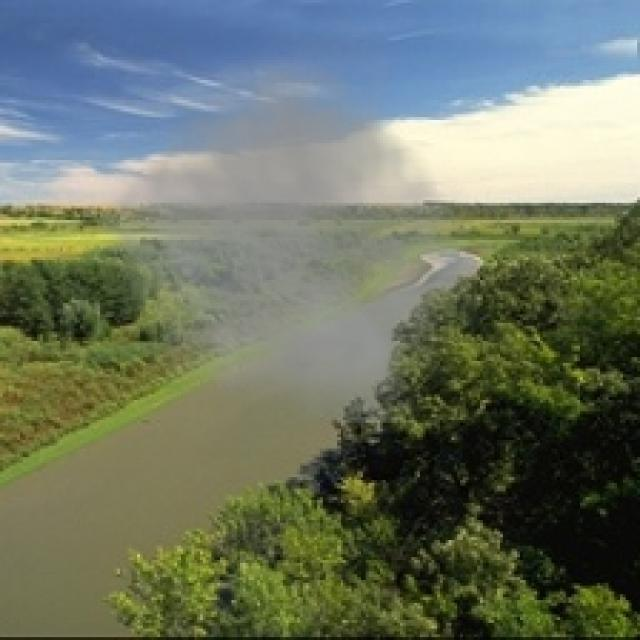smoke: (83, 17, 494, 423)
